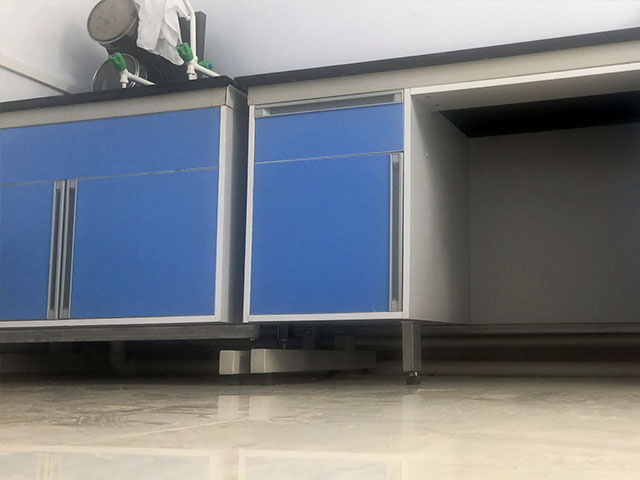cabinet: (1, 74, 244, 376), (237, 56, 429, 378)
